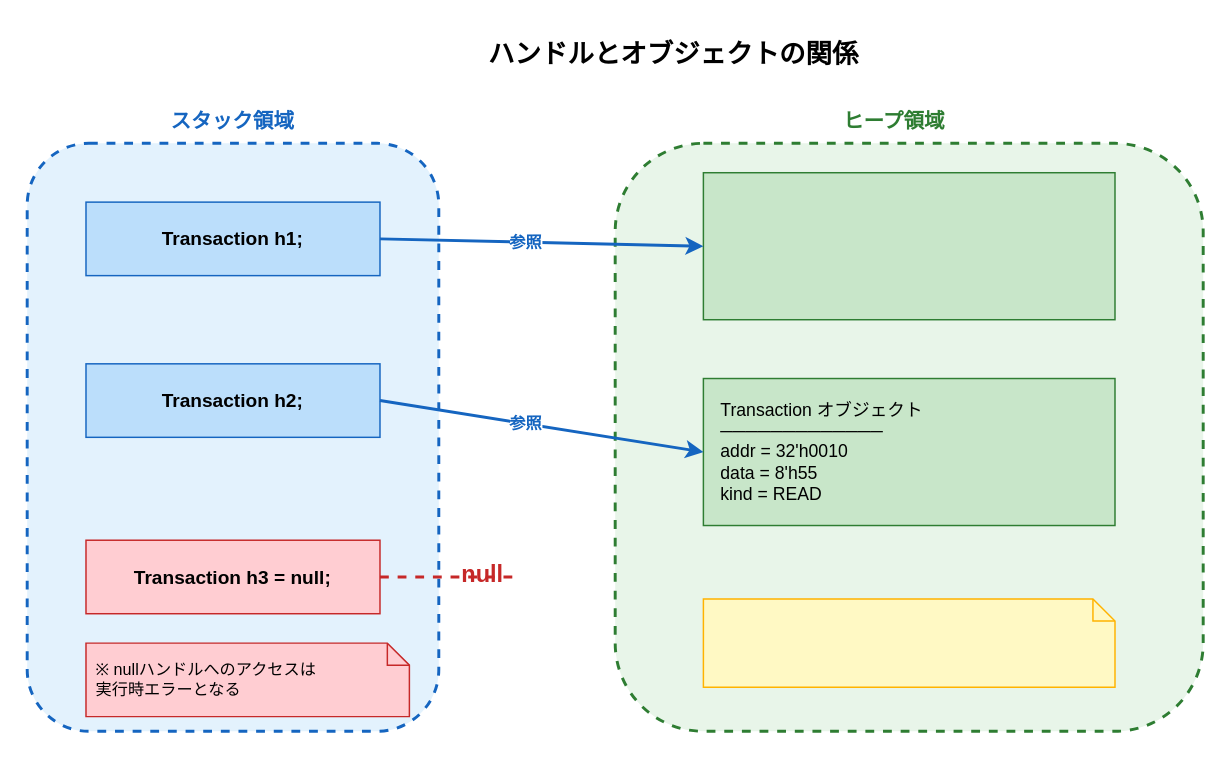
Image size: 1229x757. Some labels were removed from this diagram. Here are the shapes that lost their labels. From the top down, the centre of each, then its label:
[908,245]: Transaction オブジェクト ───────────── addr = 32'hFF00 data = 8'hAB kind = WRITE
[908,642]: h1 = new(); → ヒープにオブジェクトを生成し ハンドルに参照を格納
